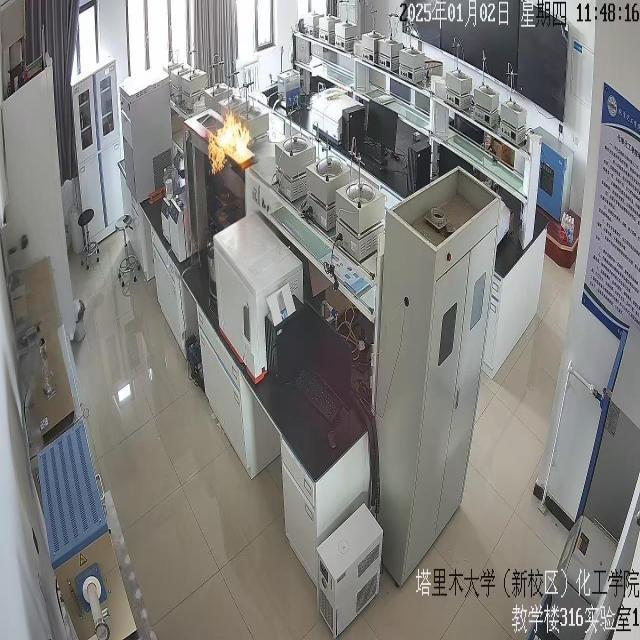smoke: (210, 106, 252, 176)
